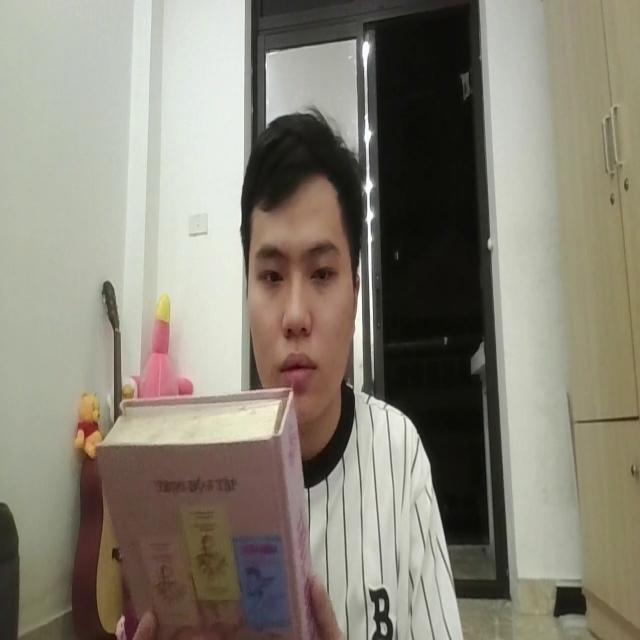book: (93, 369, 319, 640)
student: (240, 110, 462, 640)
